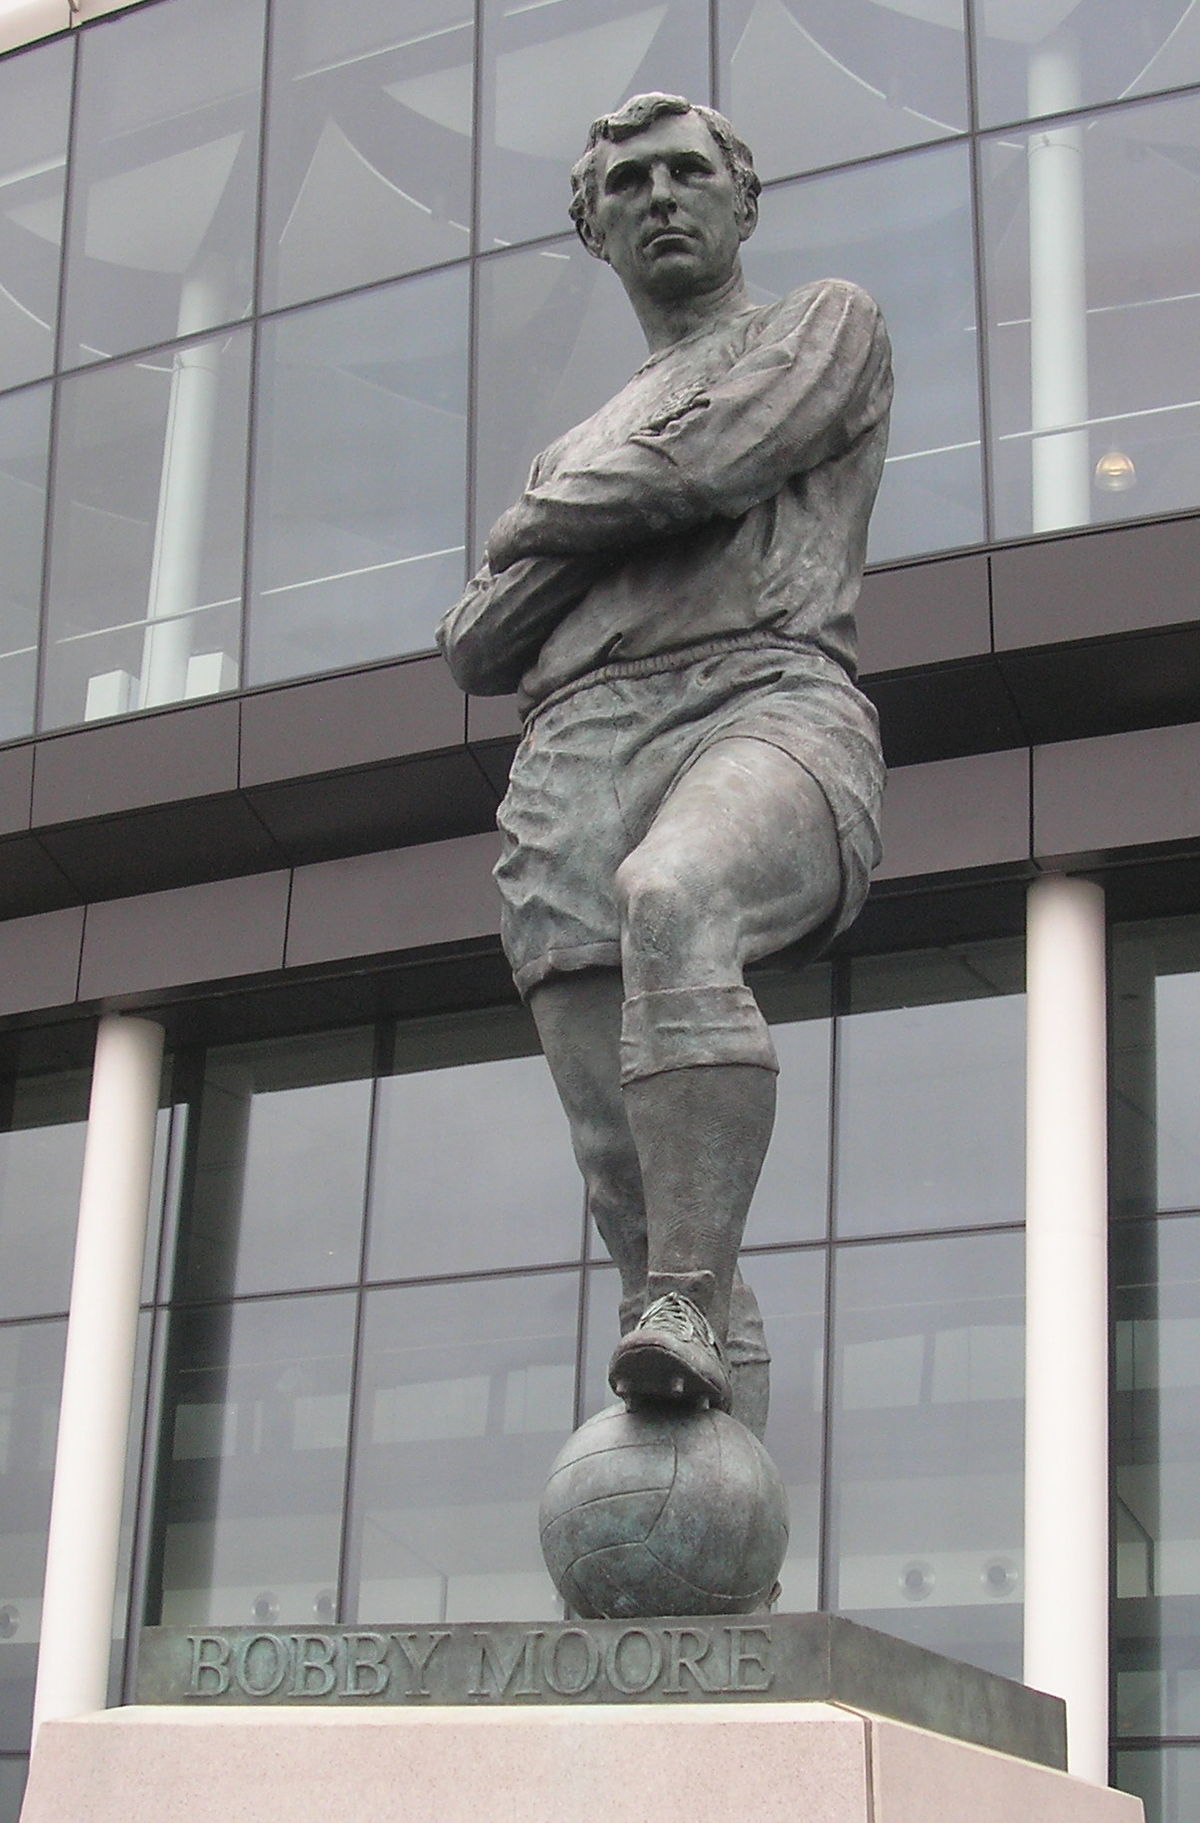person-like: (428, 79, 900, 1439)
